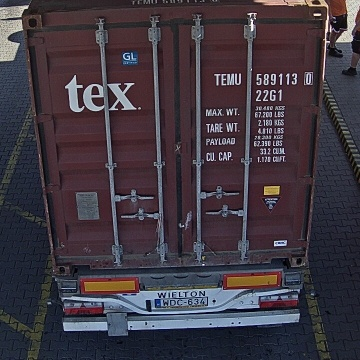serial_id: (214, 72, 313, 85)
